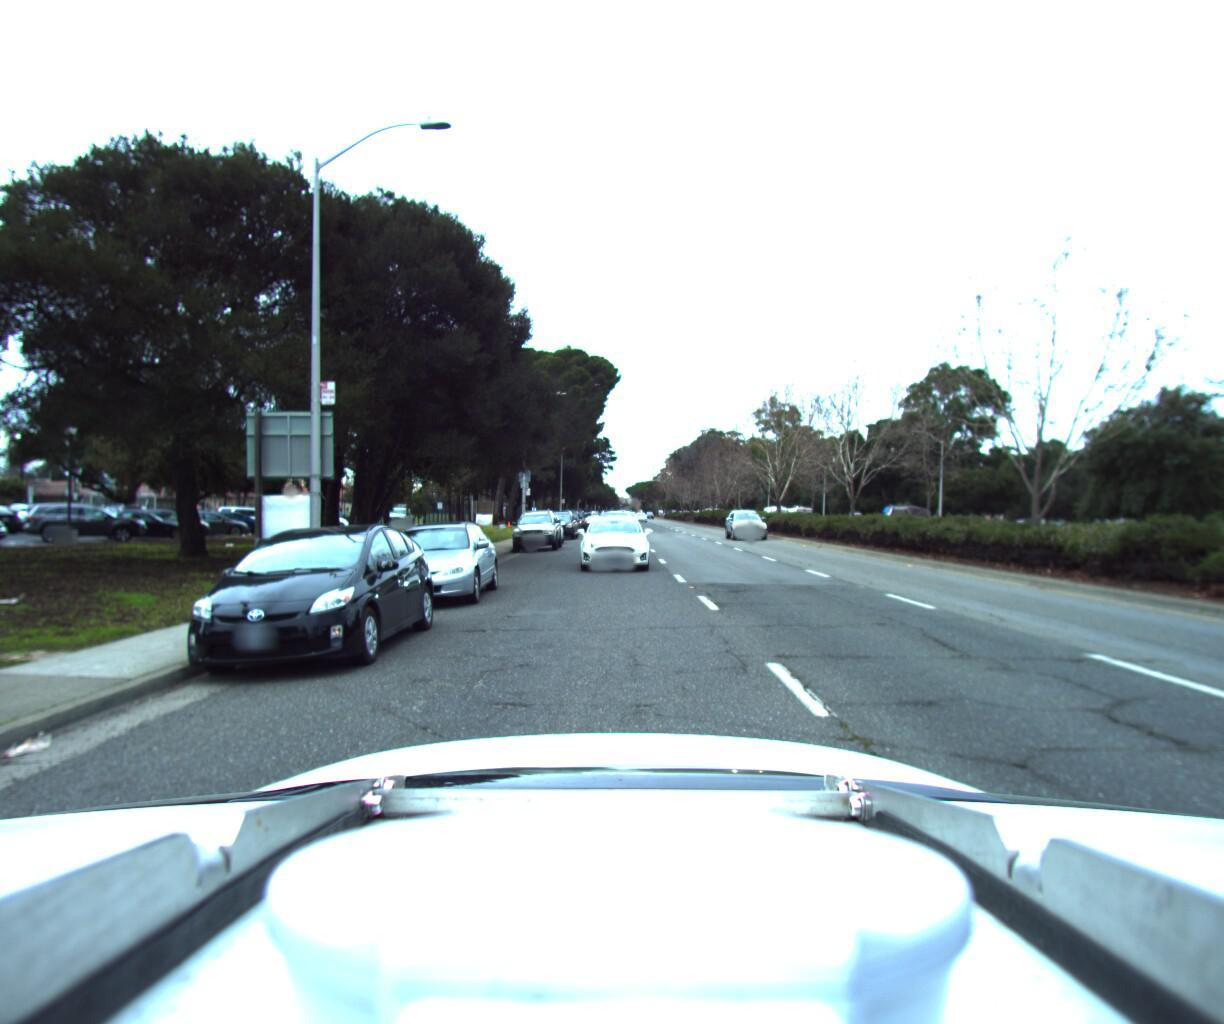car: (152, 517, 441, 687), (358, 513, 498, 611), (577, 508, 649, 569), (510, 499, 561, 547), (722, 502, 768, 535), (538, 501, 577, 535), (528, 506, 563, 537), (571, 502, 600, 519)
other_vehicle: (877, 495, 933, 532)
